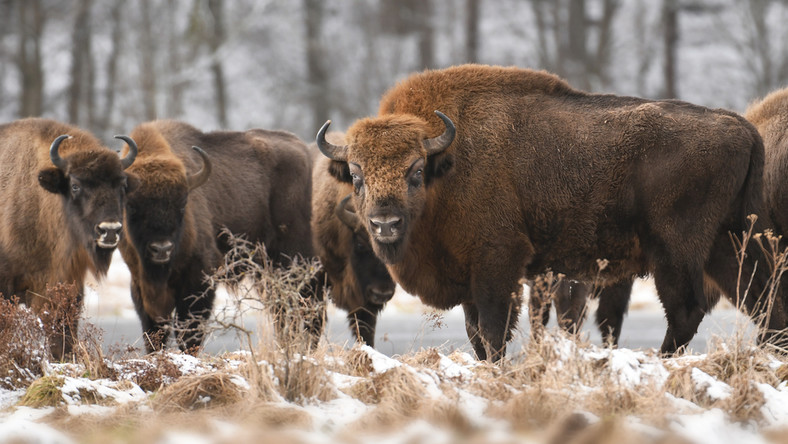zubr: (296, 48, 772, 371), (112, 85, 326, 368), (10, 91, 140, 357)
